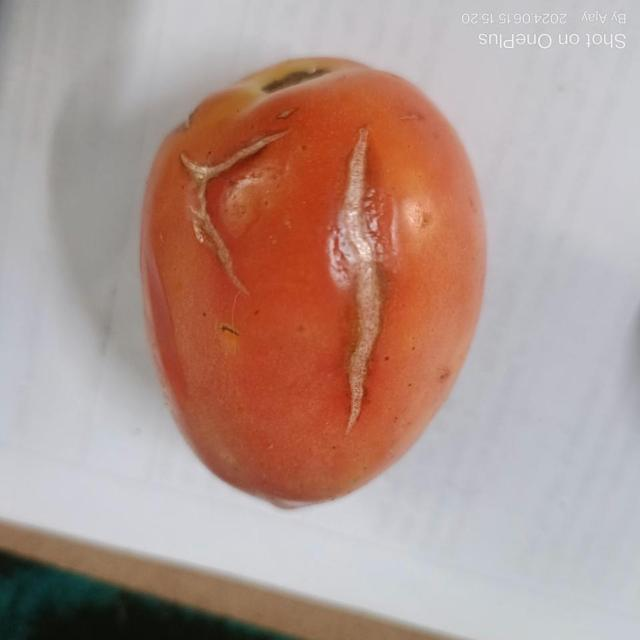Cracking Fruit: (143, 84, 238, 188)
